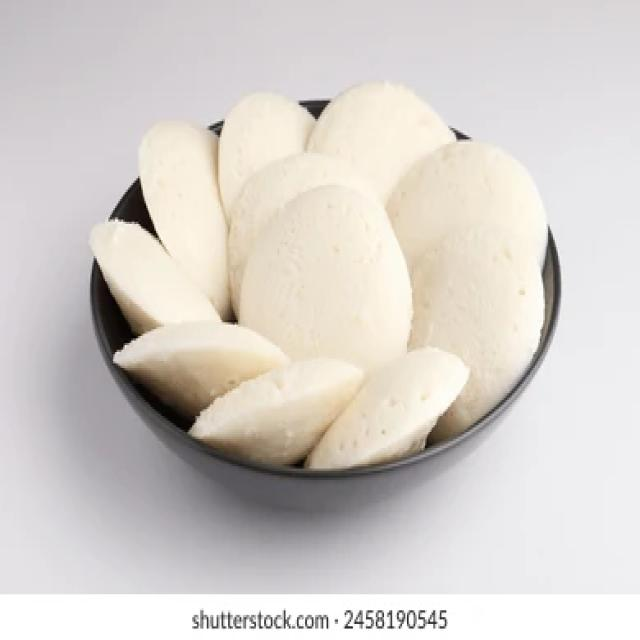IDLI: (240, 185, 409, 368), (410, 237, 543, 441), (230, 153, 371, 306), (387, 139, 546, 274), (305, 350, 468, 469), (190, 359, 363, 464), (307, 82, 453, 203), (139, 121, 228, 318), (113, 322, 289, 414), (90, 219, 220, 331), (218, 91, 313, 224)
